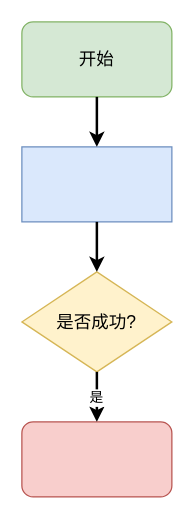
This 194x519 diagram has some shape labels left out. The shapes that lost their labels are listed below. From the top down, each one's centre as x and y in pixels, then its label:
the point at 96,184: 处理数据
the point at 96,459: 结束
